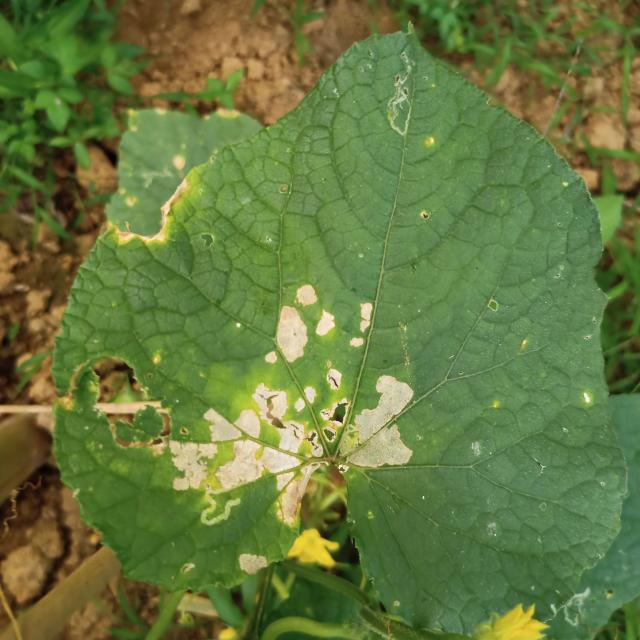disease_cucumber: (171, 269, 423, 534)
